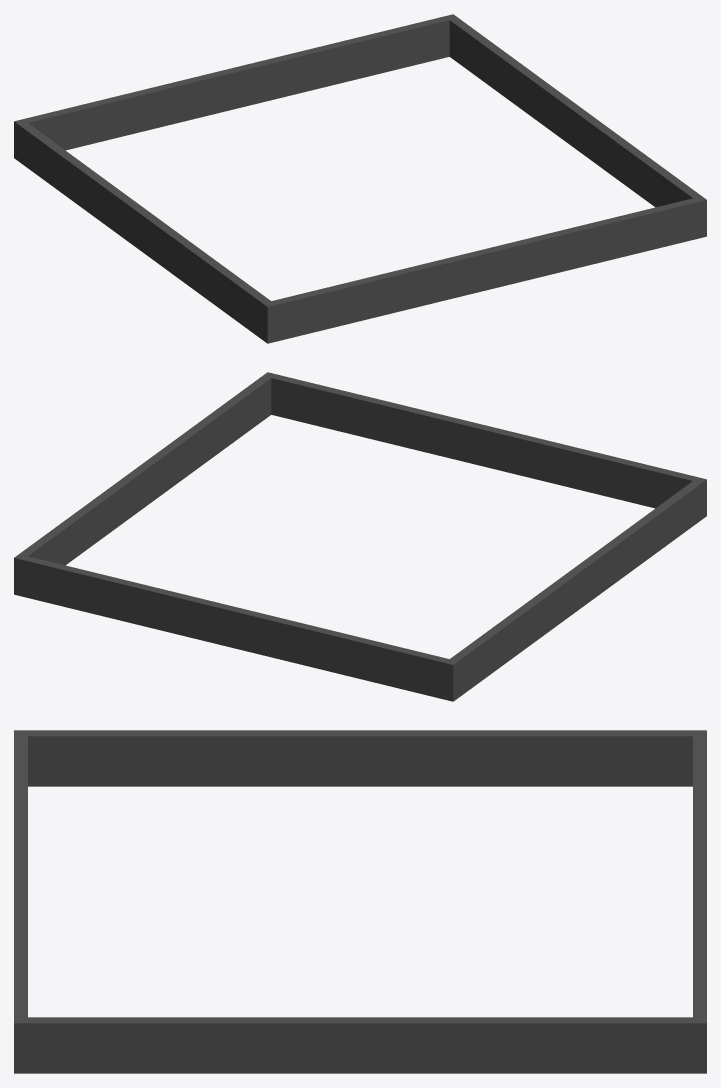
Rendered from walls.obj.
3 renders of one model, top to bottom at view 1: azimuth 30°, elevation 25°; view 2: azimuth 150°, elevation 25°; view 3: azimuth 270°, elevation 25°, orthographic. The views are drawn at different scales.
Parts seen in each view (by area): view 1: Cube__4_, Cube__2_, Cube__1_, Cube__3_; view 2: Cube__2_, Cube__4_, Cube__1_, Cube__3_; view 3: Cube__3_, Cube__1_, Cube__2_, Cube__4_.
Boxes of the visible parts, x1,y1,x2,y2 form: Cube__4_: [262, 198, 698, 343]; Cube__2_: [23, 14, 457, 150]; Cube__1_: [14, 119, 270, 339]; Cube__3_: [449, 18, 706, 238]; Cube__2_: [14, 554, 449, 699]; Cube__4_: [271, 374, 706, 519]; Cube__1_: [444, 481, 701, 701]; Cube__3_: [19, 372, 275, 565]; Cube__3_: [14, 1017, 692, 1073]; Cube__1_: [28, 730, 706, 786]; Cube__2_: [693, 736, 706, 1073]; Cube__4_: [14, 730, 27, 1017].
Size of the model in its own units: 50 by 4 by 50.
